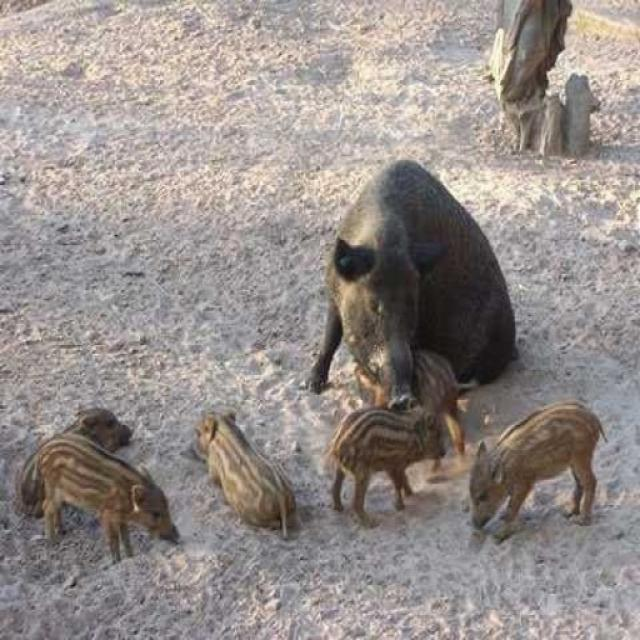pig: (285, 160, 492, 389), (38, 411, 179, 566), (454, 420, 604, 536), (174, 402, 296, 527), (318, 400, 445, 512)
